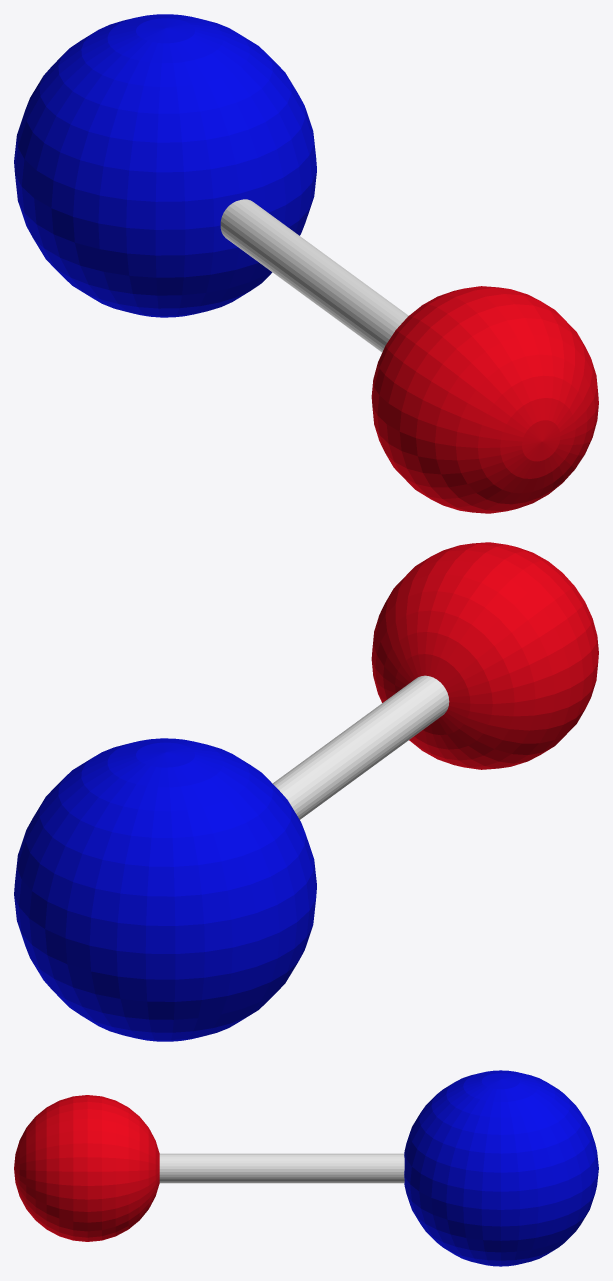
3 renders of one model, top to bottom at view 1: azimuth 30°, elevation 25°; view 2: azimuth 150°, elevation 25°; view 3: azimuth 270°, elevation 25°, orthographic. The views are drawn at different scales.
Visible parts, largest first — view 1: Sphere.003, Sphere, Cylinder.001; view 2: Sphere.003, Sphere, Cylinder.001; view 3: Sphere.003, Sphere, Cylinder.001.
Boxes of the visible parts, x1,y1,x2,y2 form: Sphere.003: (14,14,316,317); Sphere: (371,286,598,513); Cylinder.001: (220,199,408,352); Sphere.003: (14,738,316,1041); Sphere: (371,542,598,769); Cylinder.001: (272,675,449,819); Sphere.003: (404,1070,598,1266); Sphere: (14,1095,159,1241); Cylinder.001: (159,1153,404,1183).
Size of the model in its own units: 2 by 2 by 5.96.
